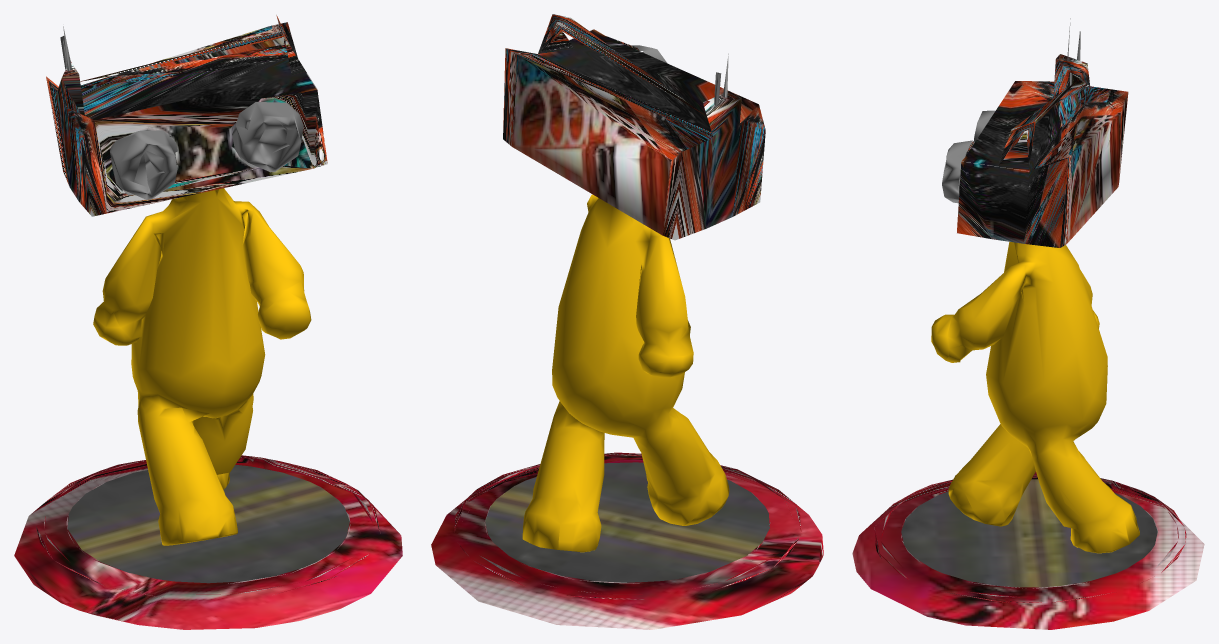
3 views of the same model, side by side, from view 1: azimuth 30°, elevation 25°; view 2: azimuth 150°, elevation 25°; view 3: azimuth 270°, elevation 25° (orthographic). The views are drawn at different scales.
Bounding box in the file's own units: 1.44 × 2.2 × 1.44.
5 materials, 3 textured.
